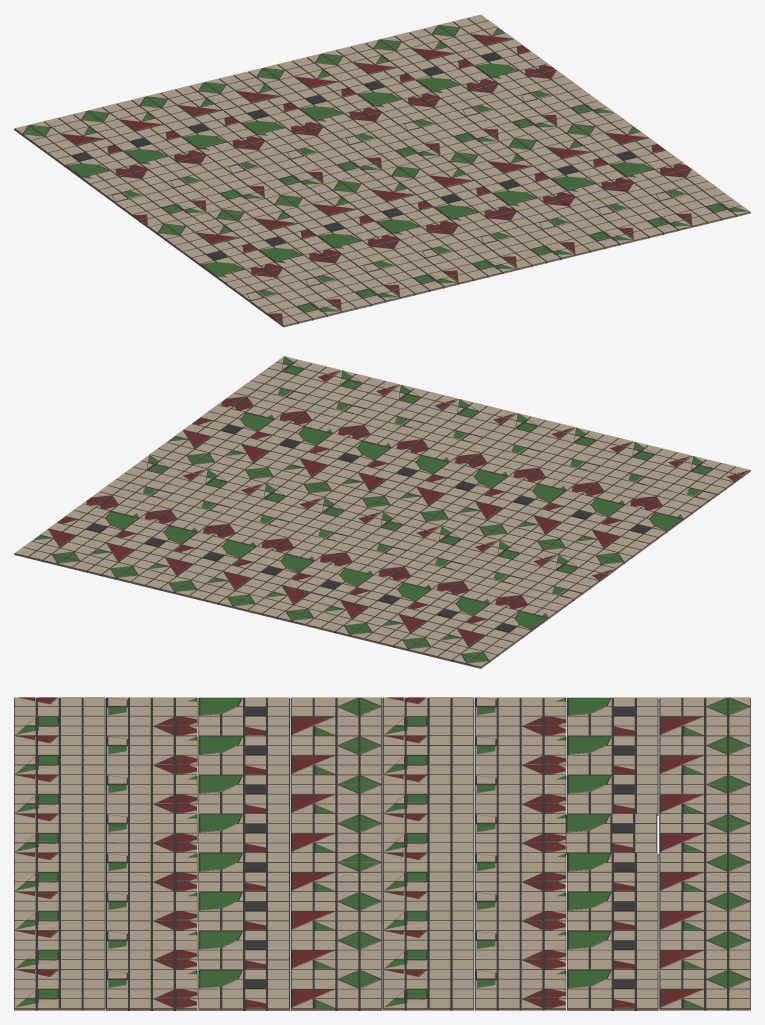
The model's file is floor_1.2.fbx.
3 views of the same model, one above another, from view 1: azimuth 30°, elevation 25°; view 2: azimuth 150°, elevation 25°; view 3: azimuth 270°, elevation 25° (orthographic). The views are drawn at different scales.
Visible parts, largest first — view 1: pCube68; view 2: pCube68; view 3: pCube68.
Part boxes in pixels (x1=…): pCube68: x1=14, y1=14, x2=750, y2=327; pCube68: x1=14, y1=356, x2=750, y2=668; pCube68: x1=14, y1=697, x2=750, y2=1010.
Bounding box in the file's own units: 47.98 × 0.1827 × 47.97.
Materials: 1 (1 with a texture image).
